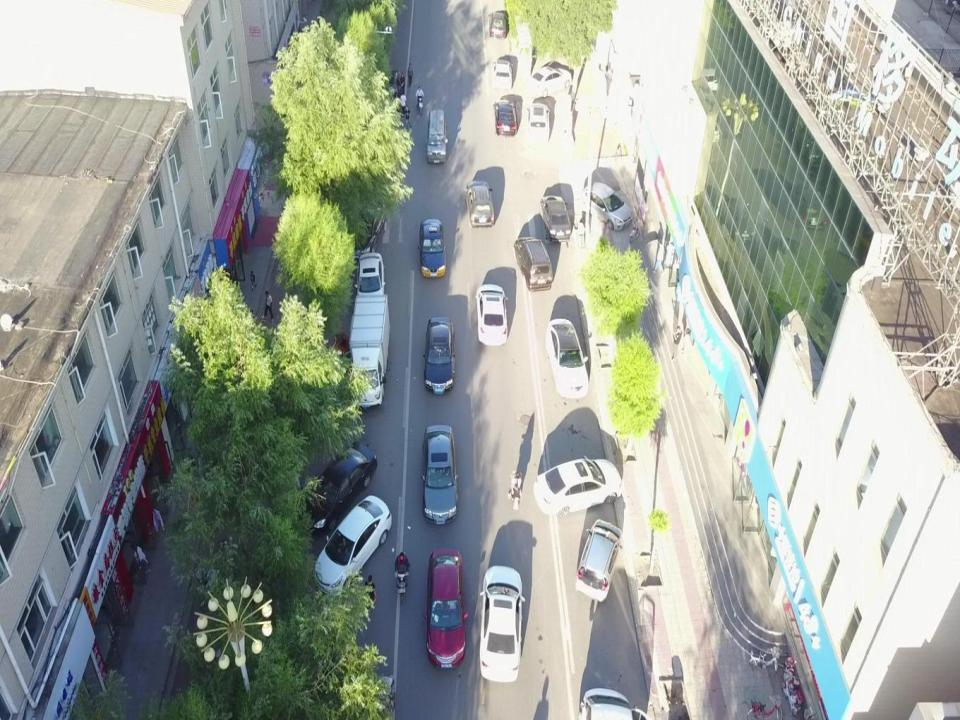car: (313, 496, 394, 594), (300, 440, 378, 536), (476, 563, 526, 682), (535, 456, 623, 516), (425, 548, 467, 672), (574, 517, 622, 603), (421, 424, 461, 526), (546, 317, 590, 401), (424, 316, 456, 396), (582, 182, 633, 229), (515, 235, 554, 292), (476, 284, 509, 346), (418, 216, 449, 282), (349, 202, 388, 254), (538, 193, 569, 241), (357, 253, 386, 302), (466, 182, 495, 230), (426, 107, 449, 163), (528, 65, 570, 93), (527, 102, 552, 141), (494, 99, 520, 135), (493, 57, 512, 90), (490, 11, 505, 37)
truck: (349, 291, 391, 413)
